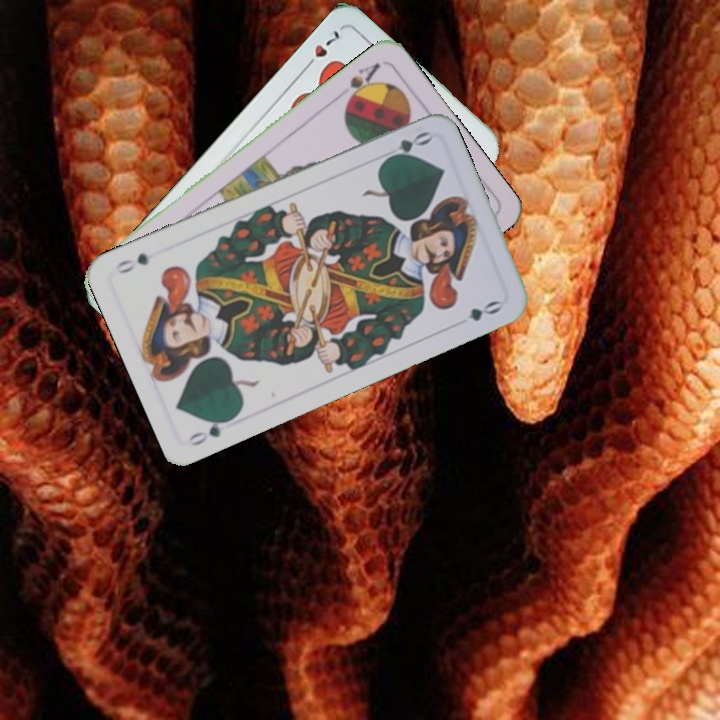GO: (377, 127, 434, 166), (184, 411, 239, 449)
H7: (299, 26, 343, 73)
SA: (341, 59, 383, 108)
